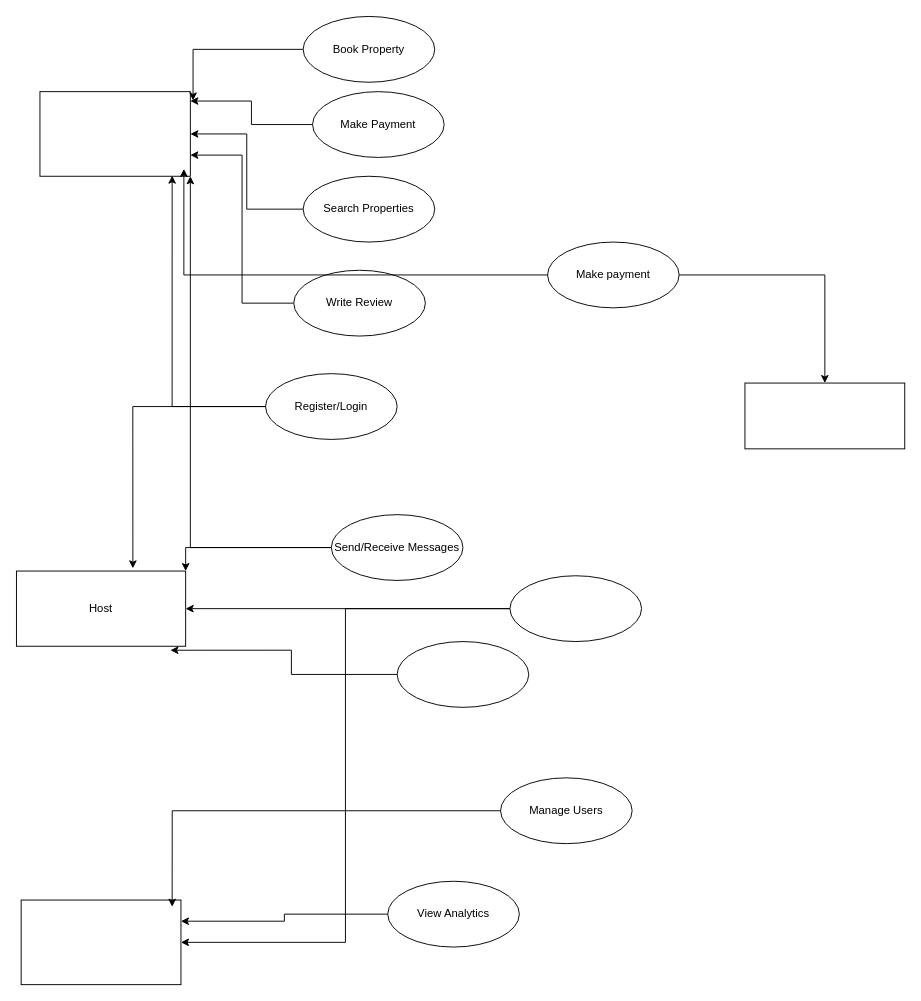
Some shapes in this 921 by 1001 pixel diagram are drawn without their labels. The centre of each missing label's shape, as x and y in pixels:
Admin: (100,942)
Guest: (114,133)
Manage Properties: (575,608)
Payment Gateway: (824,415)
View Bookings: (462,674)
